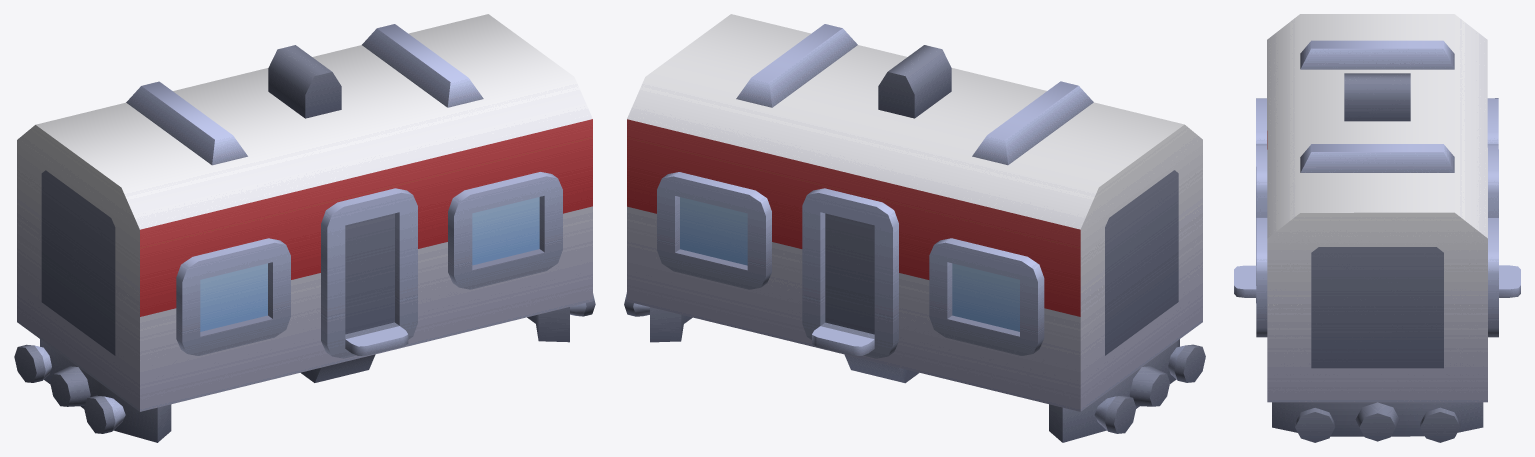
The model's file is train-electric-city-b_lev2.glb.
3 views of the same model, side by side, from view 1: azimuth 30°, elevation 25°; view 2: azimuth 150°, elevation 25°; view 3: azimuth 270°, elevation 25° (orthographic). The views are drawn at different scales.
Visible parts, largest first — view 1: train-electric-city-b_lev2; view 2: train-electric-city-b_lev2; view 3: train-electric-city-b_lev2.
Boxes of the visible parts, left/top/right/bottom form: train-electric-city-b_lev2: left=14, top=14, right=595, bottom=442; train-electric-city-b_lev2: left=624, top=14, right=1205, bottom=442; train-electric-city-b_lev2: left=1234, top=14, right=1520, bottom=442.
Bounding box in the file's own units: 4.83 × 2.72 × 2.72.
1 material, 1 textured.
